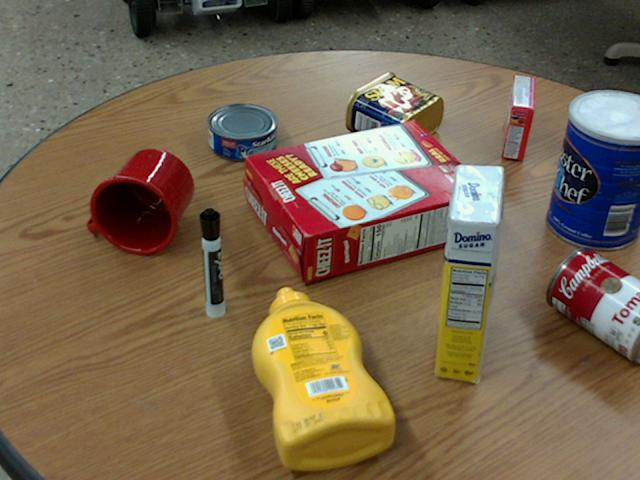cracker_box: (244, 120, 485, 283)
gelatin_box: (502, 75, 534, 159)
large_marker: (199, 207, 223, 317)
master_chef_can: (547, 91, 639, 250)
mug: (87, 148, 192, 254)
mustard_bottle: (251, 287, 394, 468)
potted_meat_can: (345, 72, 443, 149)
sugar_box: (435, 163, 503, 381)
tomato_soup_can: (546, 245, 639, 359)
tuna_fish_can: (207, 102, 276, 158)
